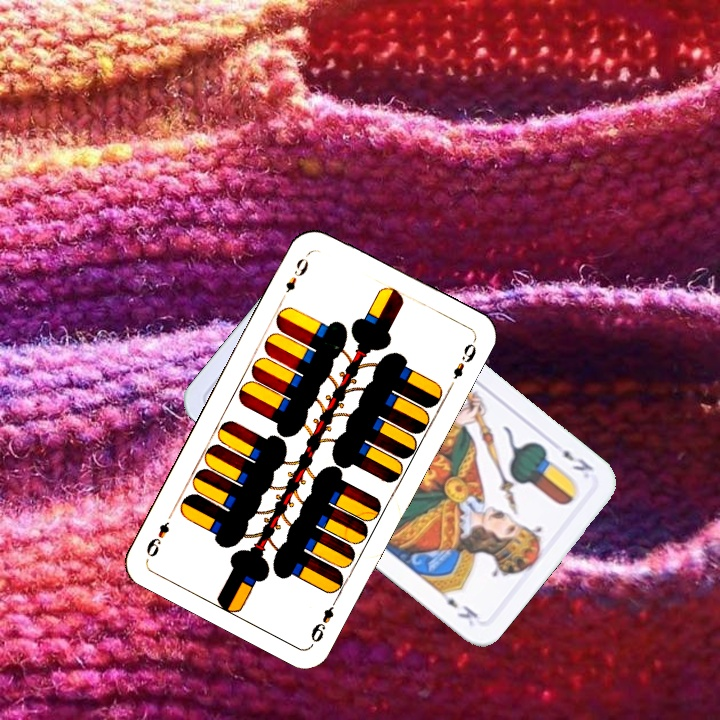E9: (277, 249, 313, 303), (306, 592, 342, 645)
EK: (558, 445, 596, 474)
